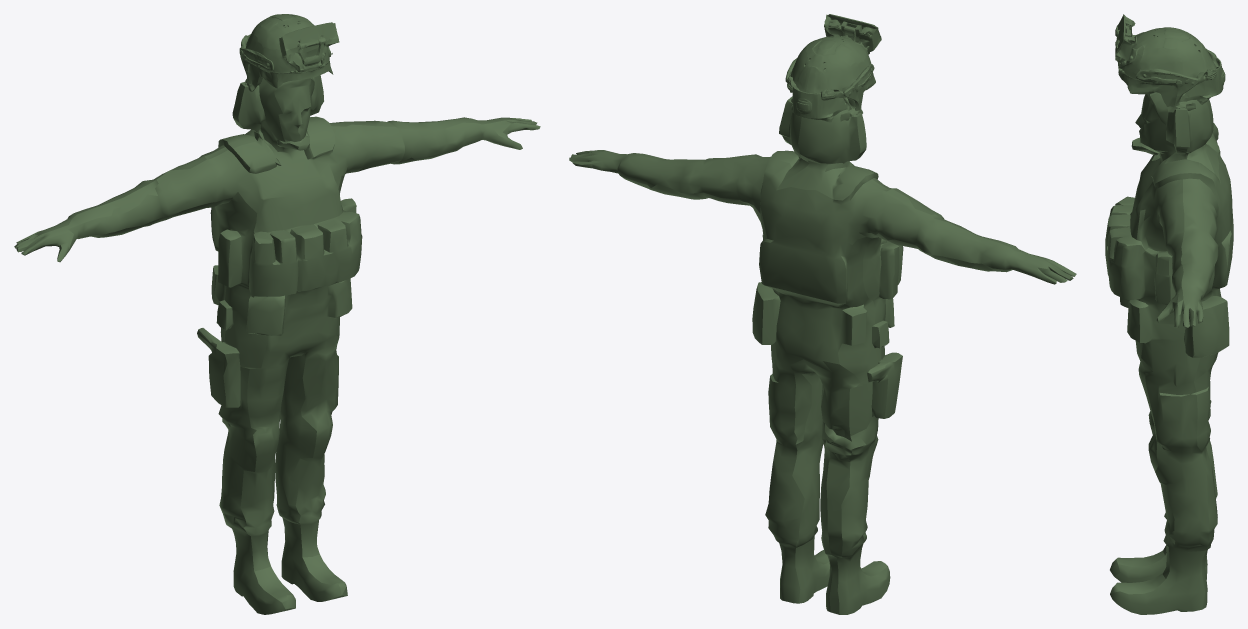
Rendered from soldier-helmet-combo.glb.
The picture shows the model from 3 angles, left to right: view 1: azimuth 30°, elevation 25°; view 2: azimuth 150°, elevation 25°; view 3: azimuth 270°, elevation 25°; orthographic projection. The views are drawn at different scales.
Parts seen in each view (by area): view 1: geometry_0, geometry_0.001; view 2: geometry_0, geometry_0.001; view 3: geometry_0, geometry_0.001.
Part boxes in pixels (x1,y1,x2,y2): geometry_0: (14,75,540,614); geometry_0.001: (239,14,339,91); geometry_0: (569,96,1076,614); geometry_0.001: (785,14,881,122); geometry_0: (1105,92,1233,614); geometry_0.001: (1115,14,1225,112).
Bounding box in the file's own units: 1 × 1.07 × 0.2186.
